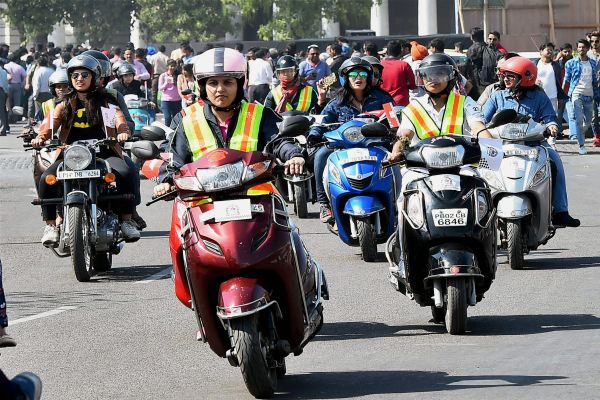helmet: (193, 47, 247, 78), (411, 57, 457, 85), (64, 57, 101, 91), (499, 57, 537, 83), (338, 58, 372, 72), (273, 56, 301, 70)
